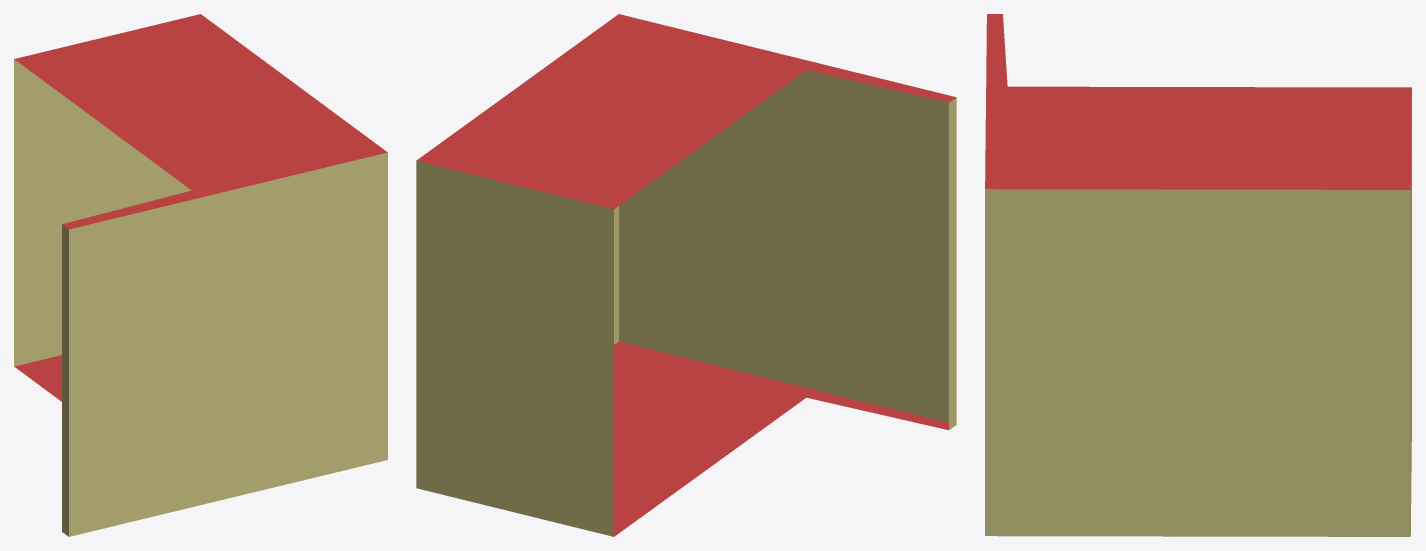
3 renders of one model, left to right at view 1: azimuth 30°, elevation 25°; view 2: azimuth 150°, elevation 25°; view 3: azimuth 270°, elevation 25°, orthographic. The views are drawn at different scales.
Bounding box in the file's own units: 5.42 × 5.56 × 4.98.
